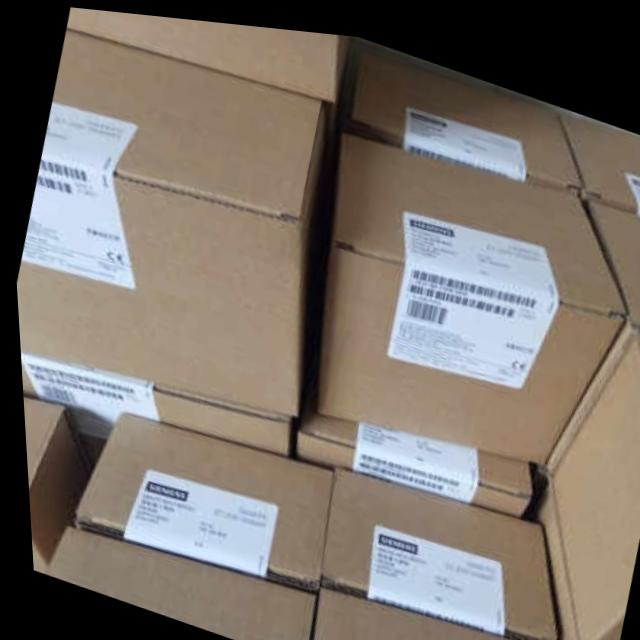box: (13, 26, 327, 415), (311, 125, 625, 454), (66, 408, 330, 588), (312, 460, 552, 640), (341, 29, 580, 183), (539, 305, 640, 640), (290, 365, 525, 506), (37, 523, 311, 640), (544, 320, 640, 640), (16, 354, 284, 468), (66, 6, 354, 96), (538, 305, 631, 468), (304, 580, 553, 640), (18, 395, 86, 571), (517, 473, 574, 640), (553, 93, 640, 201), (584, 187, 640, 317)
